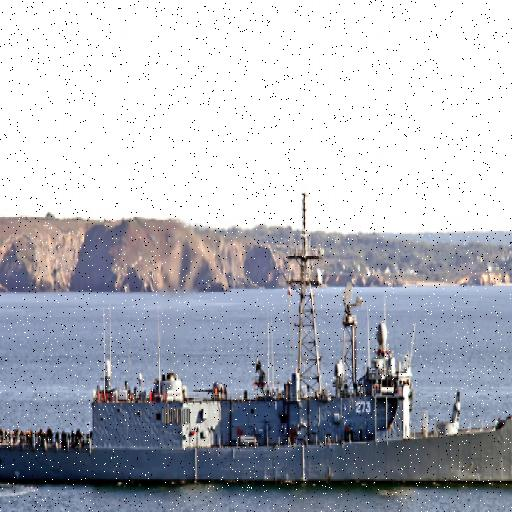Fragata: (1, 190, 512, 504)
